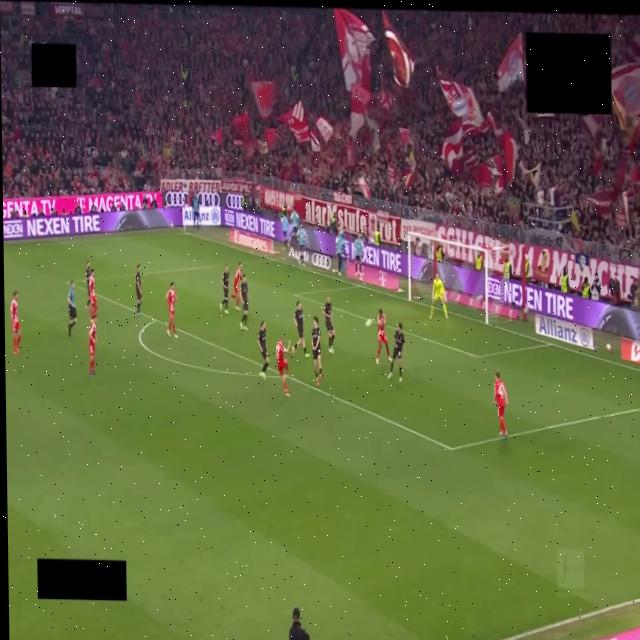ball: (365, 318, 372, 328)
player: (388, 323, 405, 382), (494, 372, 508, 438), (276, 337, 290, 397), (293, 302, 308, 358), (376, 309, 391, 364), (430, 274, 448, 319), (323, 296, 336, 354), (312, 317, 322, 386), (166, 283, 177, 338), (258, 321, 268, 379), (11, 290, 20, 354), (238, 274, 248, 330), (231, 262, 242, 309), (89, 316, 97, 377), (88, 270, 98, 318), (220, 265, 229, 314), (85, 261, 91, 310), (136, 264, 141, 315)
referee: (67, 281, 76, 336)
